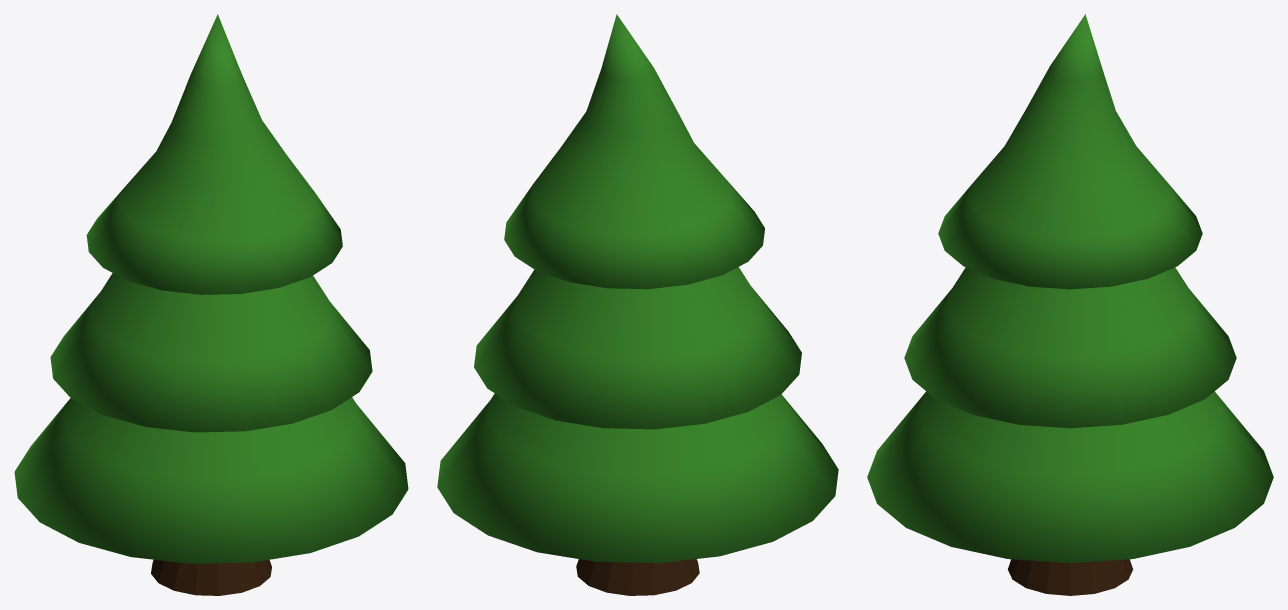
The model's file is copacAdi2.fbx.
3 renders of one model, left to right at view 1: azimuth 30°, elevation 25°; view 2: azimuth 150°, elevation 25°; view 3: azimuth 270°, elevation 25°, orthographic. The views are drawn at different scales.
Visible parts, largest first — view 1: frunze copac 2, Cylinder; view 2: frunze copac 2, Cylinder; view 3: frunze copac 2, Cylinder.
Part boxes in pixels (x1,y1,x2,y2): frunze copac 2: (14, 14, 408, 563); Cylinder: (151, 559, 271, 595); frunze copac 2: (437, 14, 838, 563); Cylinder: (576, 559, 699, 595); frunze copac 2: (867, 14, 1273, 563); Cylinder: (1007, 559, 1133, 595).
Bounding box in the file's own units: 143 × 218 × 143.
